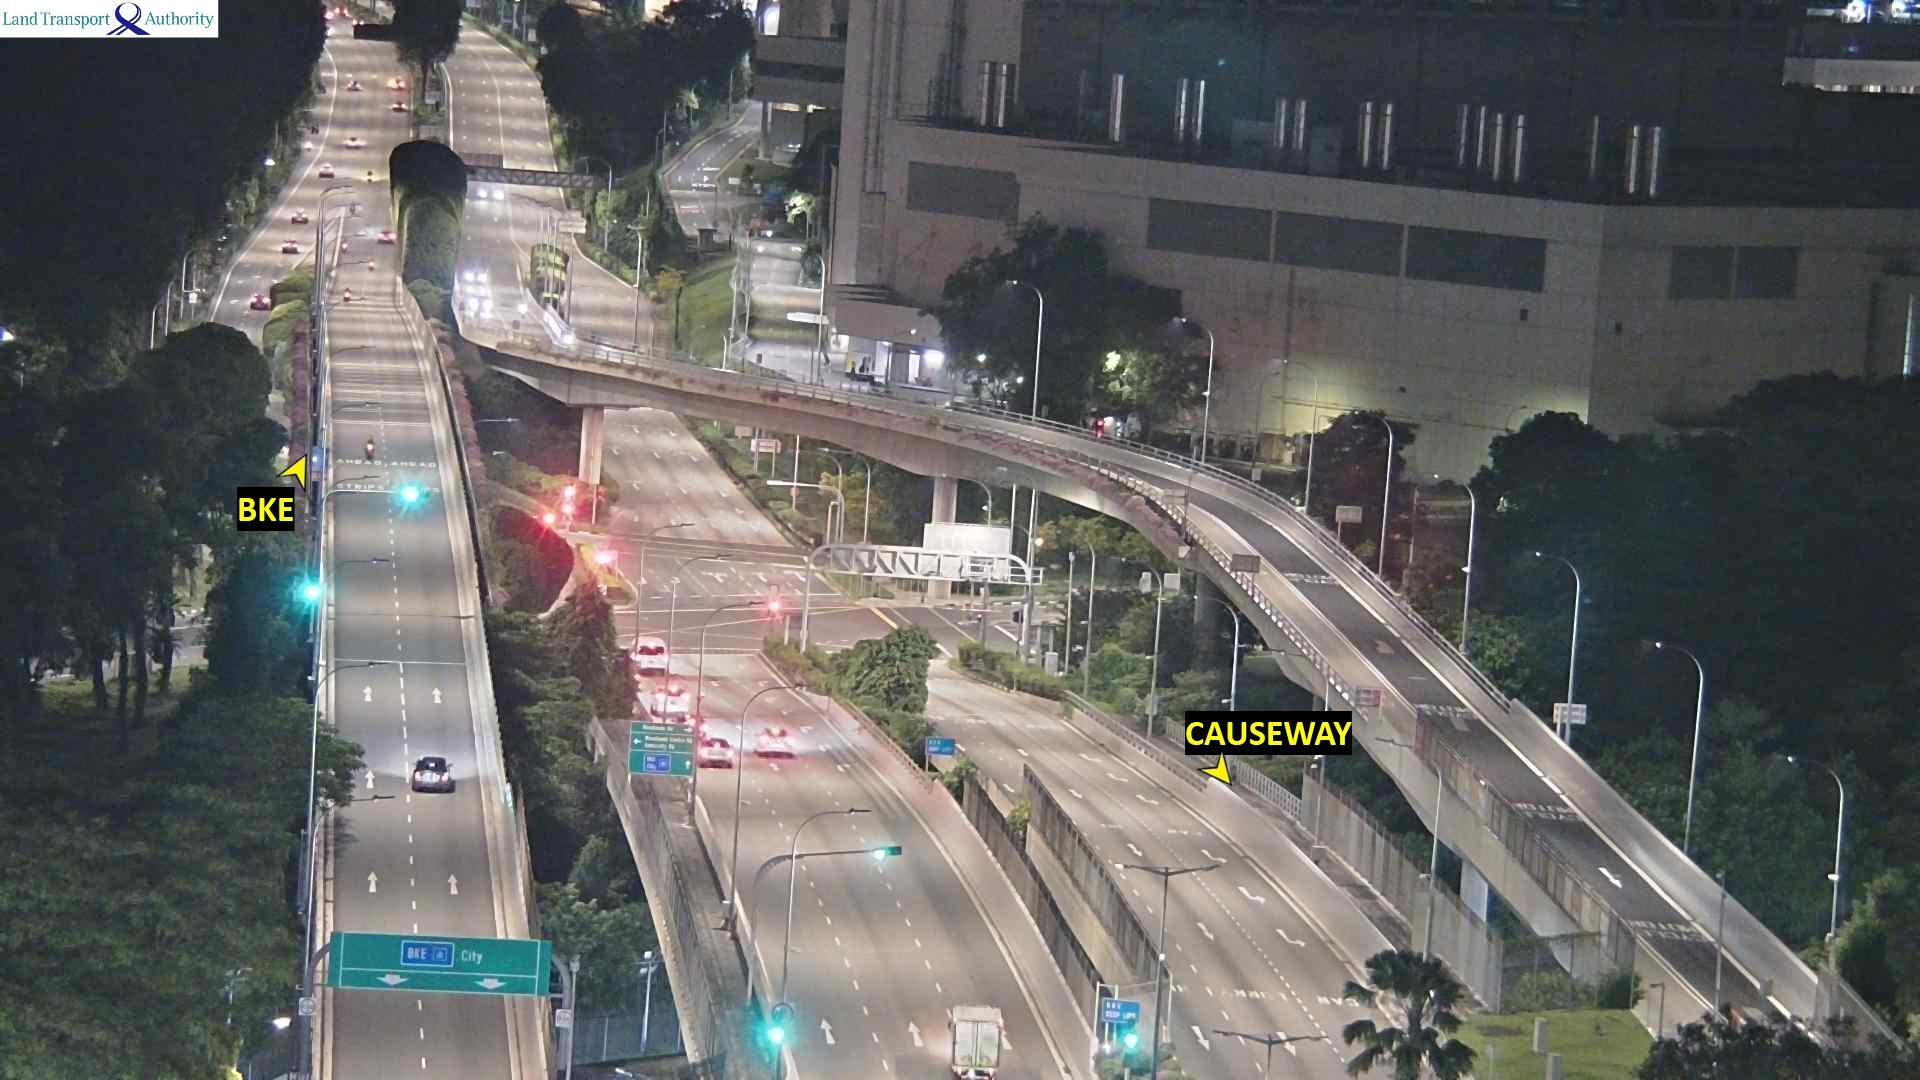vehicle-causeway-johor: (463, 260, 488, 284), (476, 183, 505, 203), (463, 295, 489, 313)
vehicle-causeway-singapore: (948, 1007, 1001, 1080), (411, 757, 458, 793), (753, 725, 795, 757), (629, 640, 667, 659), (704, 752, 736, 770), (338, 135, 365, 149), (361, 442, 375, 462), (377, 228, 393, 243), (342, 287, 349, 301), (343, 239, 351, 252), (368, 257, 375, 269), (351, 202, 356, 215)
